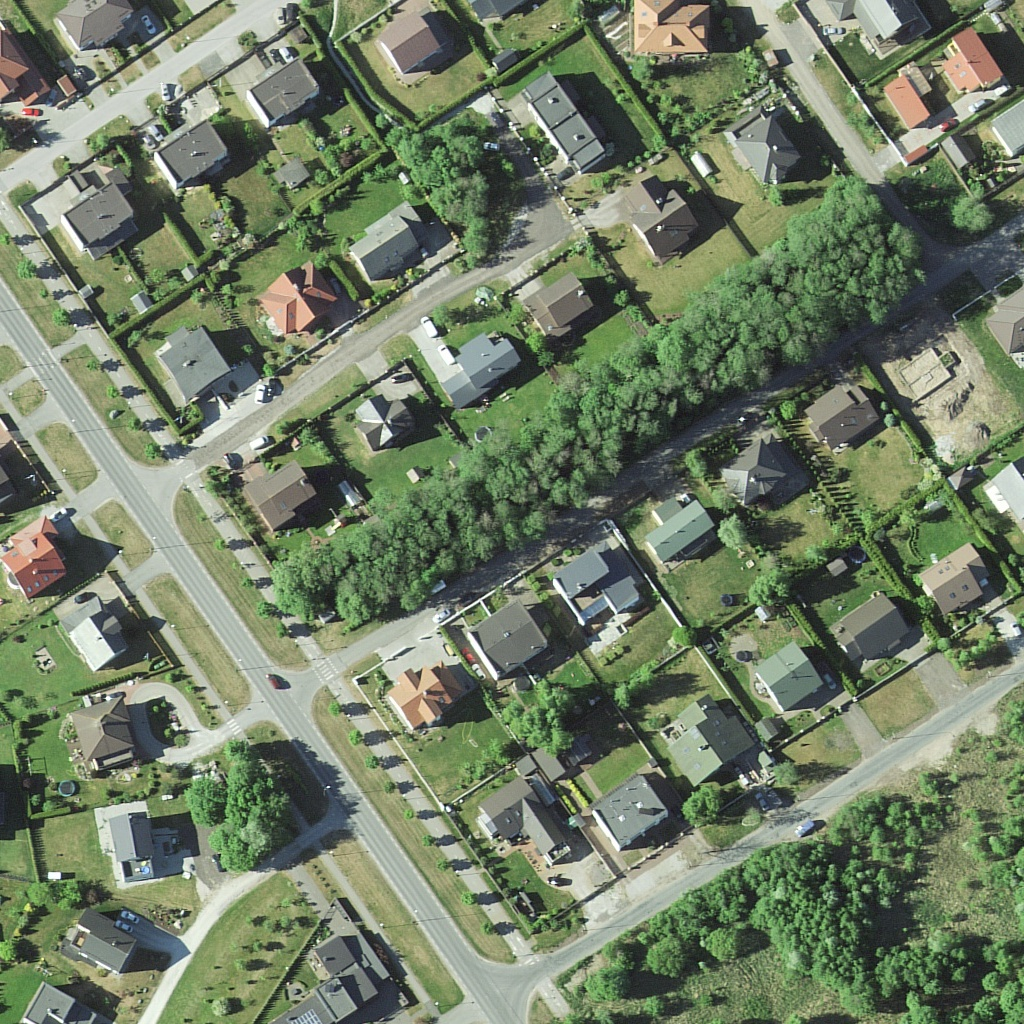building: (257, 932, 372, 1024), (475, 776, 574, 864), (667, 696, 750, 793), (524, 72, 600, 171), (557, 552, 642, 626), (260, 264, 344, 337), (64, 701, 147, 773), (627, 1, 713, 69), (164, 321, 236, 402), (474, 601, 547, 679), (58, 904, 137, 976), (594, 773, 667, 849), (61, 182, 138, 251), (634, 179, 698, 262), (443, 338, 516, 409), (807, 382, 883, 449), (102, 805, 165, 885), (348, 203, 424, 269), (252, 58, 322, 128), (922, 545, 991, 616), (736, 109, 795, 190), (161, 124, 228, 190), (648, 493, 711, 563), (390, 668, 454, 736), (830, 599, 905, 656), (531, 277, 594, 344), (7, 521, 63, 596), (67, 601, 125, 672), (382, 13, 448, 73), (250, 462, 305, 531), (767, 650, 821, 716), (57, 1, 129, 49), (888, 56, 929, 138), (730, 443, 780, 506), (350, 391, 415, 439), (948, 35, 1001, 93)
